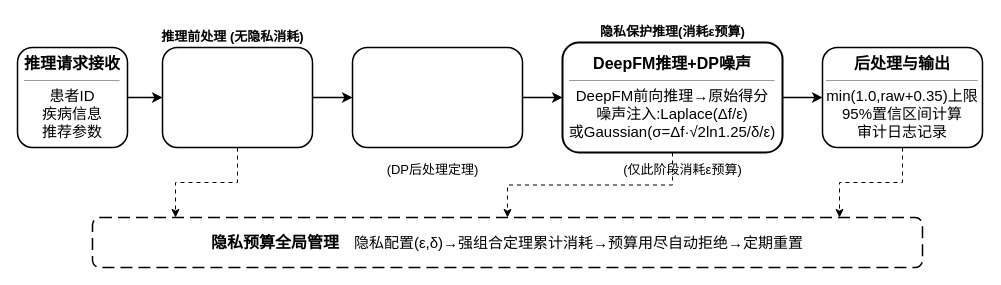
Image size: 1001x285. Some labels were removed from this diagram. Here are the shapes that lost their labels. From the top down, the box of each, then its label:
(161, 46, 313, 148): 隐私预算检查 查询剩余ε预算 预算充足→继续 预算不足→拒绝/降级
(351, 46, 523, 148): 临床安全过滤 SafetyFilter+RuleMarker (无DP噪声介入) 得分<0.15→置零
